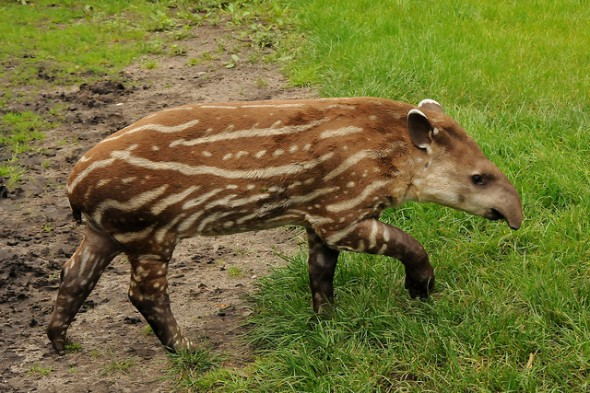Anta: (39, 88, 528, 364)
